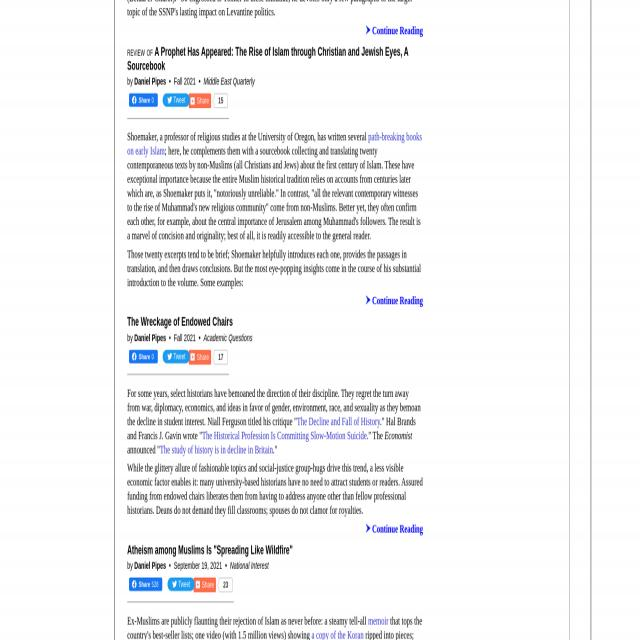button: (129, 578, 162, 592), (163, 349, 190, 364), (167, 578, 195, 592), (128, 94, 158, 107), (163, 93, 190, 107), (129, 350, 158, 363), (193, 577, 216, 593), (188, 349, 210, 365), (189, 94, 210, 108)
field: (216, 577, 232, 592), (211, 94, 227, 108), (211, 350, 227, 364)
